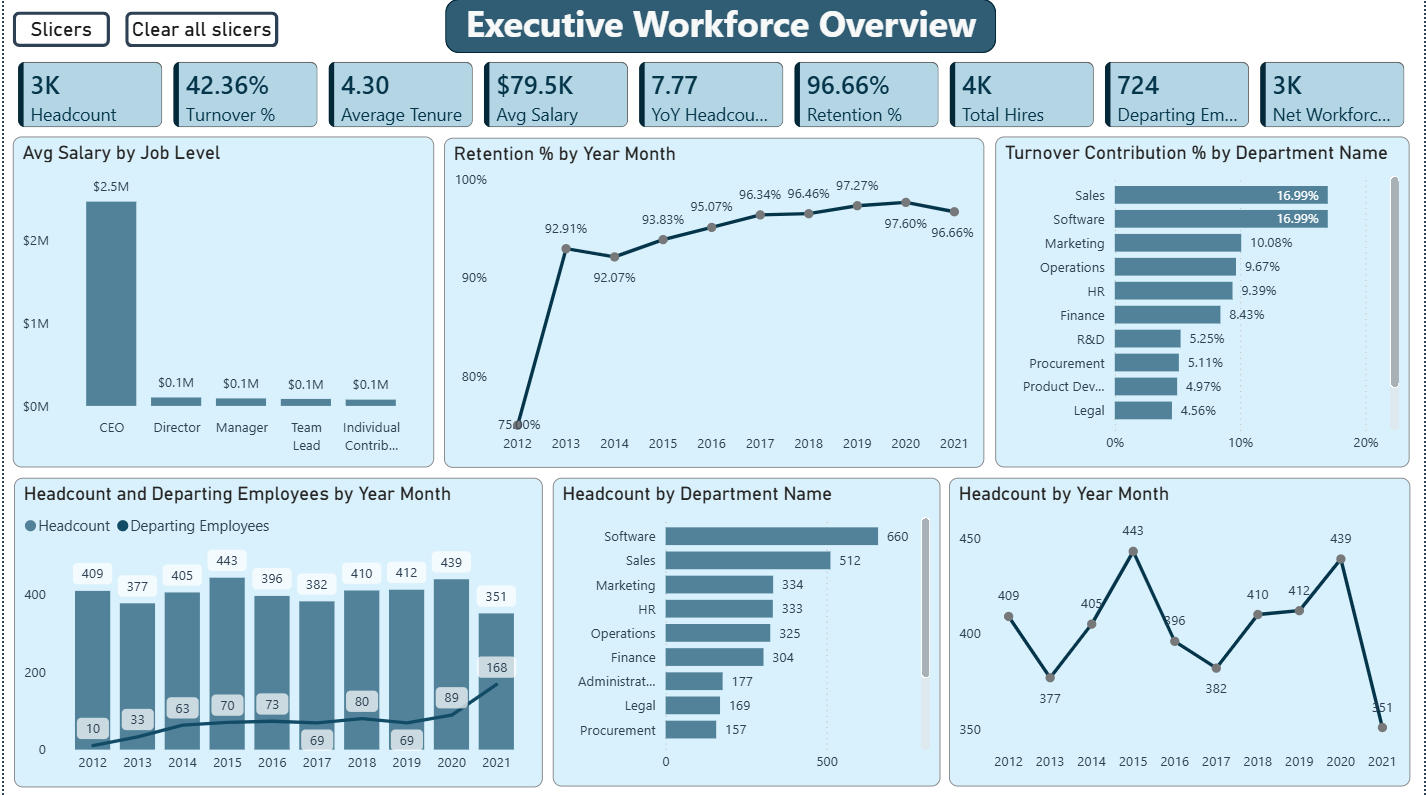

Layout of this report page (visuals, bound fields, positions):
{"tool":"powerbi","page":{"name":"Executive Summary","canvas":[1280,720],"ordinal":1},"visuals":[{"type":"shape","box":[397.9,0,496.7,48.7],"z":0},{"type":"cardVisual","fields":{"Data":["measures (2).Headcount","measures (2).Turnover %","measures (2).Average Tenure","measures (2).Avg Salary","measures (2).YoY Headcount Growth %","measures (2).Retention %","measures (2).Total Hires","measures (2).Departing Employees","measures (2).Net Workforce Growth"]},"box":[7.9,51.8,1261.2,69.9],"z":1000},{"type":"lineChart","fields":{"Y":["measures (2).Headcount"],"Category":["dim_date.Year Month (groups)"]},"box":[852.1,431.7,416,278.4],"z":2000},{"type":"barChart","fields":{"Category":["dim_department.department_name"],"Y":["measures (2).Headcount"]},"box":[494.8,431.7,349.4,278.4],"z":3000},{"type":"barChart","fields":{"Category":["dim_department.department_name"],"Y":["measures (2).Turnover Contribution %"]},"box":[894.3,123.5,373.3,298.1],"z":4000},{"type":"columnChart","fields":{"Category":["dim_job_level.job_level_name"],"Y":["measures (2).Avg Salary"]},"box":[8.2,123.4,379.6,298.1],"z":5000},{"type":"lineStackedColumnComboChart","fields":{"Y":["measures (2).Headcount"],"Y2":["measures (2).Departing Employees"],"Category":["dim_date.Year Month (groups)"]},"box":[9.3,431.4,476.7,279.1],"z":6000},{"type":"actionButton","title":"FILTERS","box":[8.3,11.1,87.7,32],"z":7000},{"type":"textbox","box":[414.9,0,463.3,48.3],"z":14000},{"type":"lineChart","fields":{"Category":["dim_date.Year Month (groups)"],"Y":["measures (2).Retention %"]},"box":[396.7,125.1,486.9,297.6],"z":15000},{"type":"actionButton","box":[109.5,11.2,138.1,32.3],"z":16000}]}

Visuals, with their boxes in screenshot pixels (x1, y1, x2, y2), scaled from the page's 1280x720 canvas onto the 1426x795 screenshot:
shape: region(443, 0, 997, 54)
cardVisual - measures (2).Headcount x measures (2).Turnover %: region(9, 57, 1414, 134)
lineChart - measures (2).Headcount x dim_date.Year Month (groups): region(949, 477, 1413, 784)
barChart - dim_department.department_name x measures (2).Headcount: region(551, 477, 940, 784)
barChart - dim_department.department_name x measures (2).Turnover Contribution %: region(996, 136, 1412, 466)
columnChart - dim_job_level.job_level_name x measures (2).Avg Salary: region(9, 136, 432, 465)
lineStackedColumnComboChart - measures (2).Headcount x measures (2).Departing Employees: region(10, 476, 541, 785)
"FILTERS" actionButton: region(9, 12, 107, 48)
textbox: region(462, 0, 978, 53)
lineChart - dim_date.Year Month (groups) x measures (2).Retention %: region(442, 138, 984, 467)
actionButton: region(122, 12, 276, 48)
